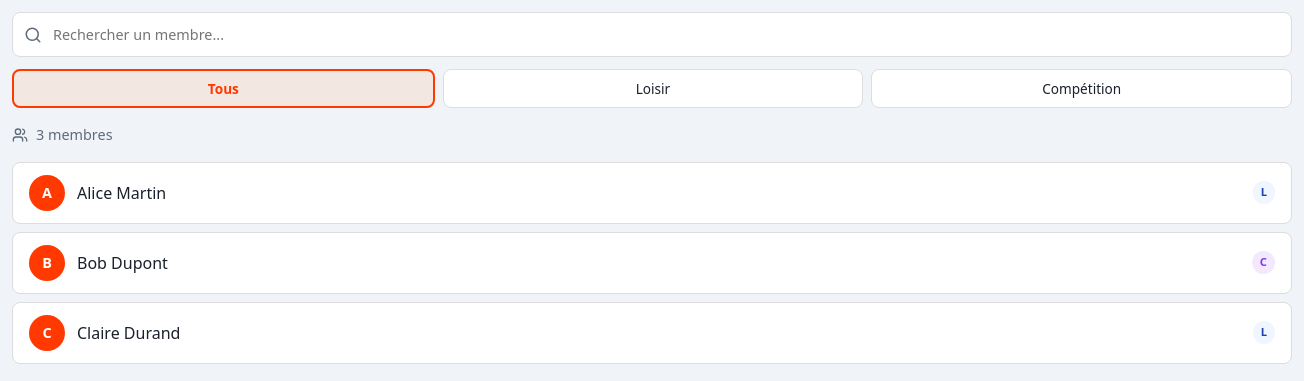
Test: ClubMembers › filtre par type de licence
Expected: the text "Alice Martin" is shown, left=77, top=182, right=166, bottom=204
Click the button "Compétition".
click(1082, 88)  # box left=871, top=69, right=1292, bottom=108
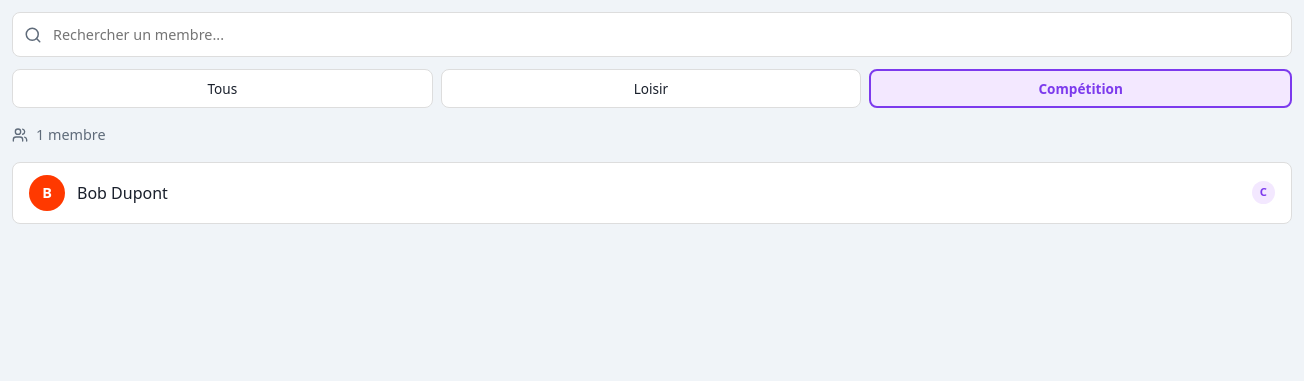
Expected: the text "Bob Dupont" is shown, left=77, top=182, right=168, bottom=204
Result: the text "Alice Martin" is gone
